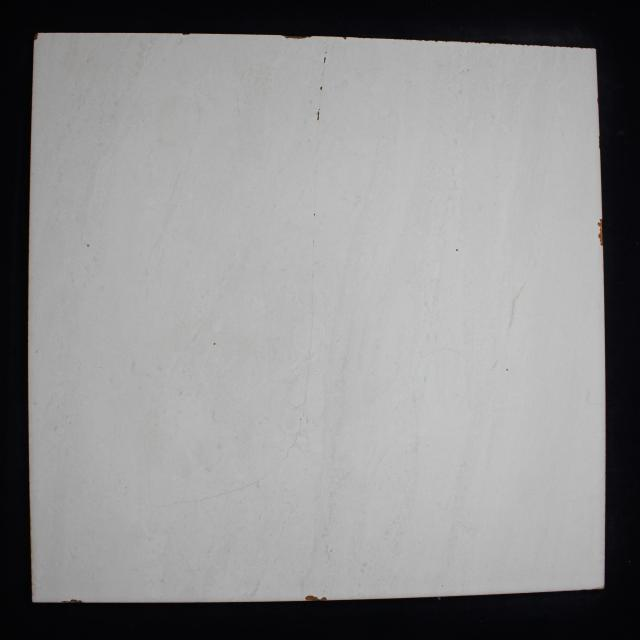edge-chipping: (305, 595, 319, 601), (281, 35, 297, 39), (297, 36, 313, 40), (597, 218, 603, 228), (70, 599, 82, 603), (34, 33, 39, 41), (319, 596, 328, 600), (60, 600, 70, 603), (598, 233, 603, 239), (598, 135, 600, 150), (600, 240, 604, 247), (182, 33, 191, 36), (599, 228, 603, 233), (342, 37, 347, 40), (596, 98, 598, 104)
hole: (323, 56, 326, 64), (317, 110, 320, 116), (86, 244, 90, 247), (317, 116, 319, 121), (320, 86, 322, 90), (213, 343, 216, 345), (506, 368, 508, 371), (325, 51, 327, 54), (314, 213, 316, 216), (456, 249, 458, 251)
line: (289, 389, 309, 448), (194, 490, 239, 502), (311, 217, 320, 269), (309, 272, 315, 350), (269, 450, 289, 472), (240, 474, 266, 488), (305, 352, 312, 387), (155, 502, 192, 508), (318, 91, 322, 108)
